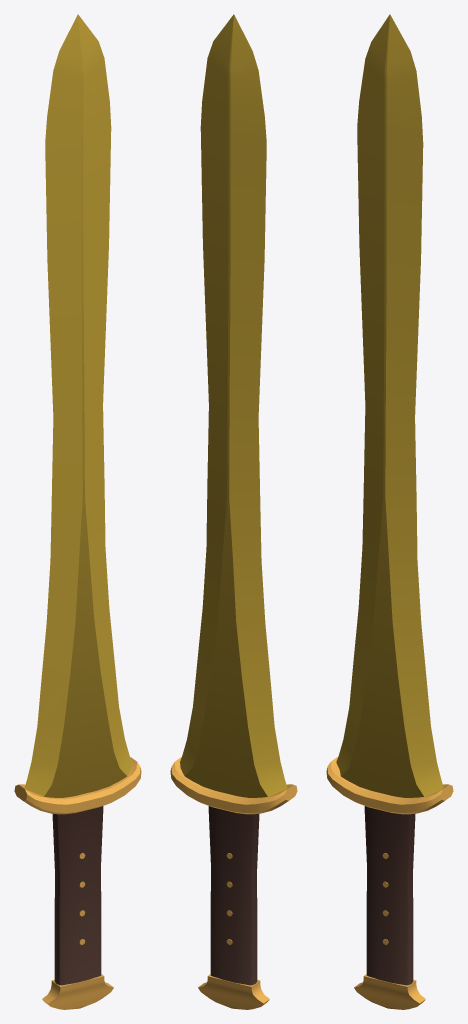
The model's file is SM_Sword19_Xiphos_2Gold.fbx.
3 views of the same model, side by side, from view 1: azimuth 30°, elevation 25°; view 2: azimuth 150°, elevation 25°; view 3: azimuth 330°, elevation 25° (orthographic).
Visible parts, largest first — view 1: Cube.395, Cube.397, Cube.396, Cube.398; view 2: Cube.395, Cube.397, Cube.396, Cube.398; view 3: Cube.395, Cube.397, Cube.396, Cube.398.
Boxes of the visible parts, <box> form: Cube.395: <box>24,14,131,797</box>; Cube.397: <box>52,806,103,985</box>; Cube.396: <box>14,757,141,814</box>; Cube.398: <box>42,974,113,1009</box>; Cube.395: <box>180,14,287,797</box>; Cube.397: <box>208,806,259,985</box>; Cube.396: <box>170,757,297,814</box>; Cube.398: <box>198,974,269,1009</box>; Cube.395: <box>336,14,443,797</box>; Cube.397: <box>364,806,415,985</box>; Cube.396: <box>326,757,453,814</box>; Cube.398: <box>354,974,425,1009</box>.
Bounding box in the file's own units: 0.0868 × 0.7078 × 0.0316.
